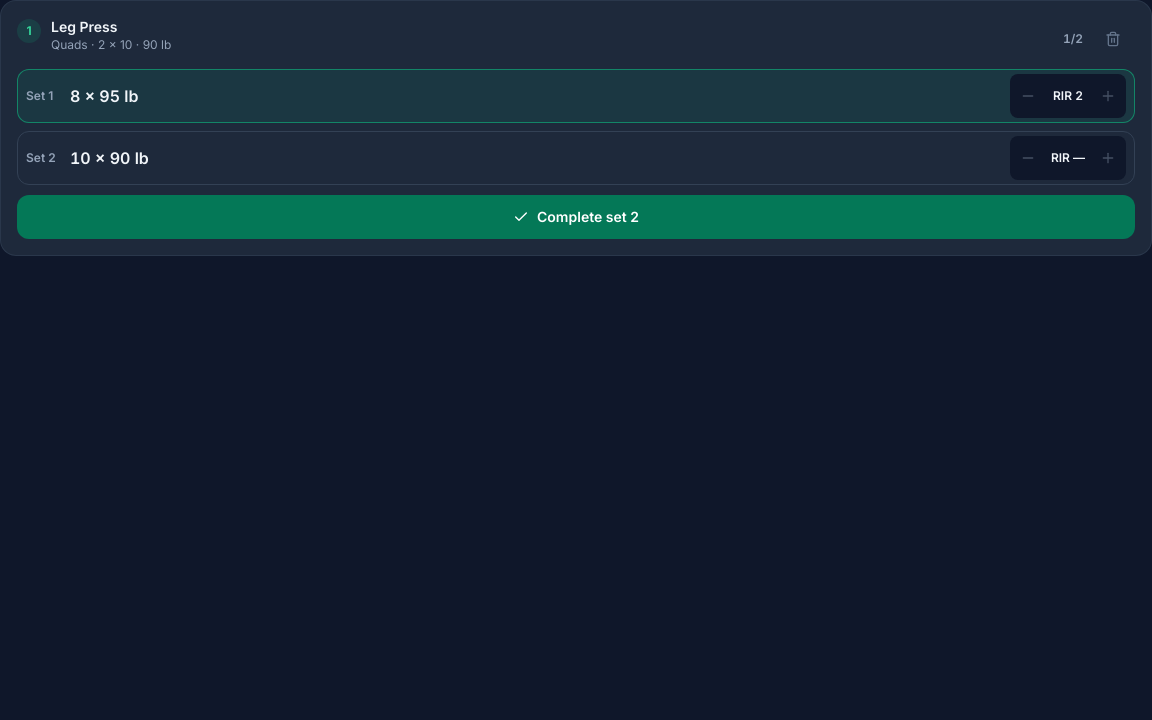
Test case: quick-complete set tiles › opens the editor (not a re-complete) when tapping an already completed set
Click the button with aria-label "set 1 completed".
click(75, 96)  # box x1=70 y1=74 x2=1002 y2=118
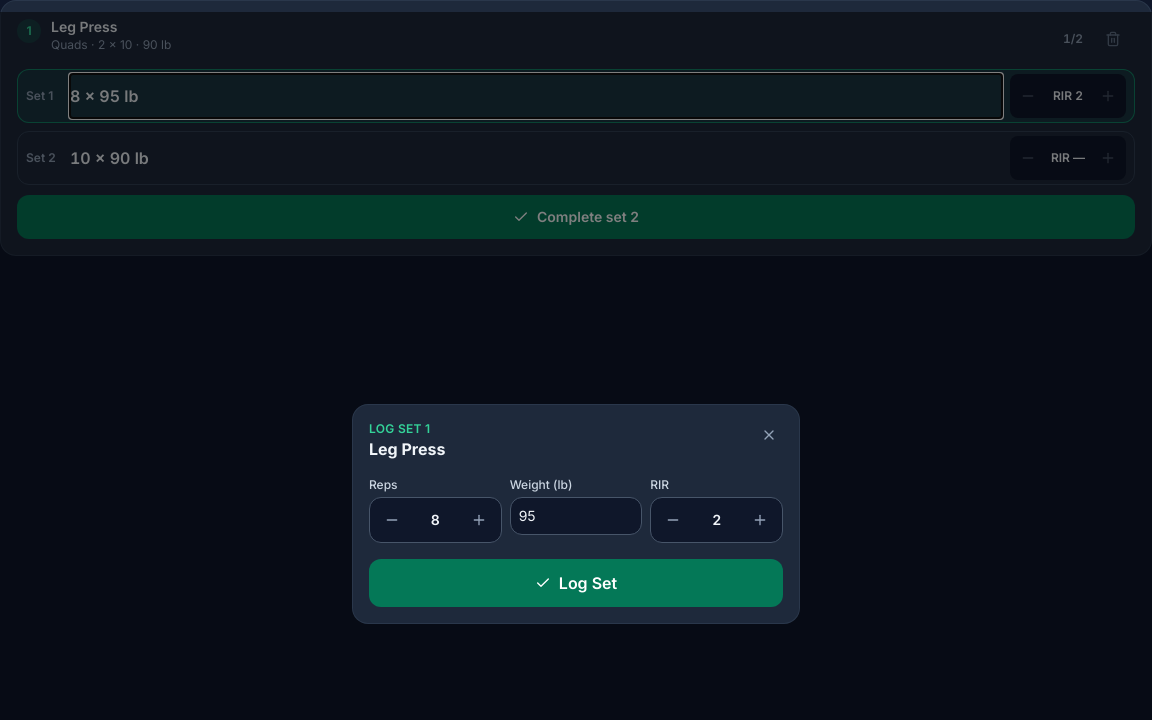
Expected: the dialog "Log Set" is shown
